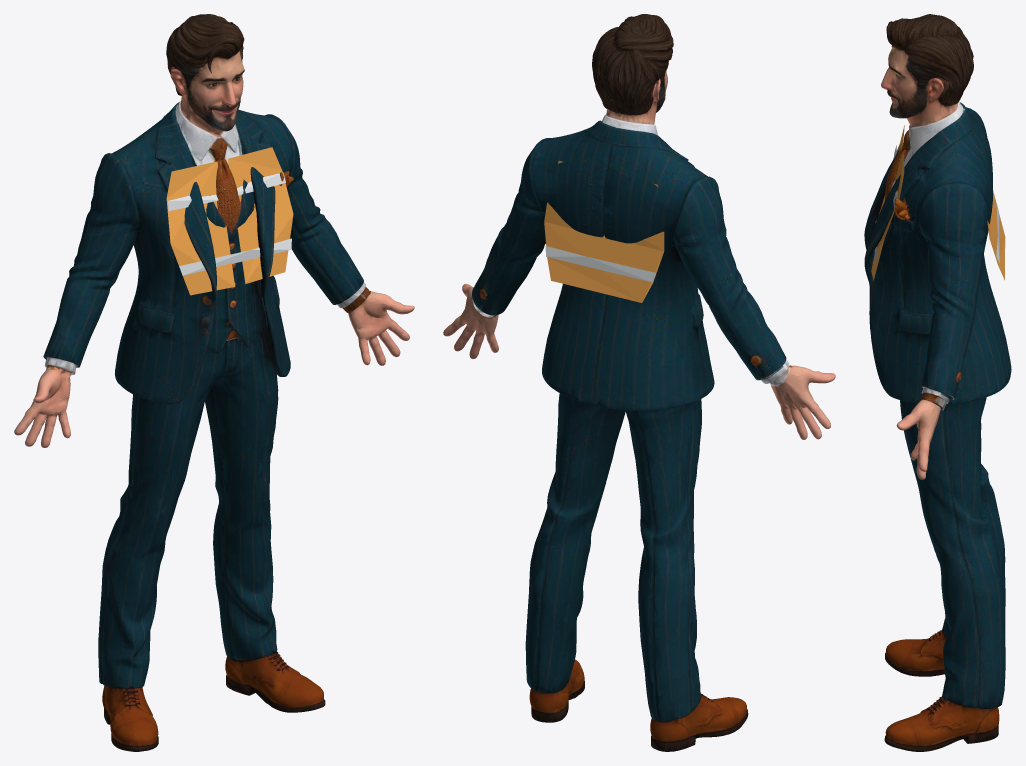
File: gerente-chaleco.glb
The picture shows the model from 3 angles, left to right: view 1: azimuth 30°, elevation 25°; view 2: azimuth 150°, elevation 25°; view 3: azimuth 270°, elevation 25°; orthographic projection. The views are drawn at different scales.
Parts seen in each view (by area): view 1: businessman, Dicka_HiVis_Vest_Part_1, Dicka_HiVis_Vest_Part_2, Dicka_HiVis_Vest_Part_4, Dicka_HiVis_Vest_Part_6; view 2: businessman, Dicka_HiVis_Vest_Part_3, Dicka_HiVis_Vest_Part_5; view 3: businessman, Dicka_HiVis_Vest_Part_3, Dicka_HiVis_Vest_Part_2.
Boxes of the visible parts, x1,y1,x2,y2 form: businessman: [14, 14, 414, 751]; Dicka_HiVis_Vest_Part_1: [166, 161, 234, 295]; Dicka_HiVis_Vest_Part_2: [228, 147, 293, 283]; Dicka_HiVis_Vest_Part_4: [179, 238, 291, 275]; Dicka_HiVis_Vest_Part_6: [168, 172, 285, 211]; businessman: [443, 14, 835, 751]; Dicka_HiVis_Vest_Part_3: [544, 160, 664, 302]; Dicka_HiVis_Vest_Part_5: [545, 246, 655, 282]; businessman: [864, 14, 1011, 751]; Dicka_HiVis_Vest_Part_3: [987, 190, 1005, 280]; Dicka_HiVis_Vest_Part_2: [871, 151, 904, 280].
Bounding box in the file's own units: 1.06 × 1.8 × 0.3492.
Materials: 3 (1 with a texture image).
